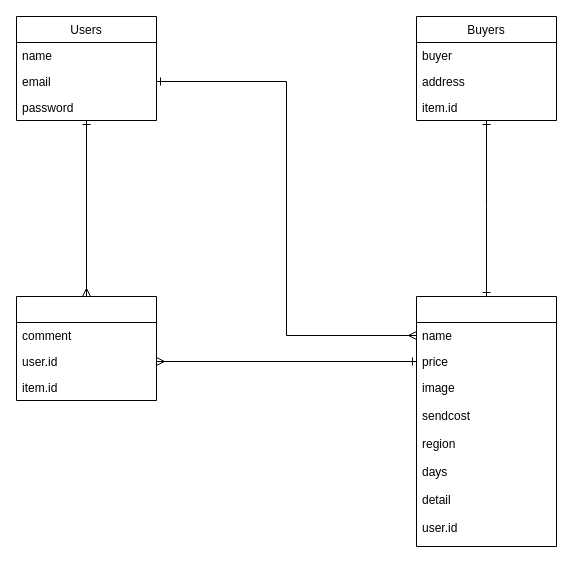
Image size: 573x563. Some labels were removed from this diagram. Here are the shapes that lost their labels. From the top down, the box of each, then its label:
(16, 296, 156, 400): Comments
(416, 296, 556, 546): Items
